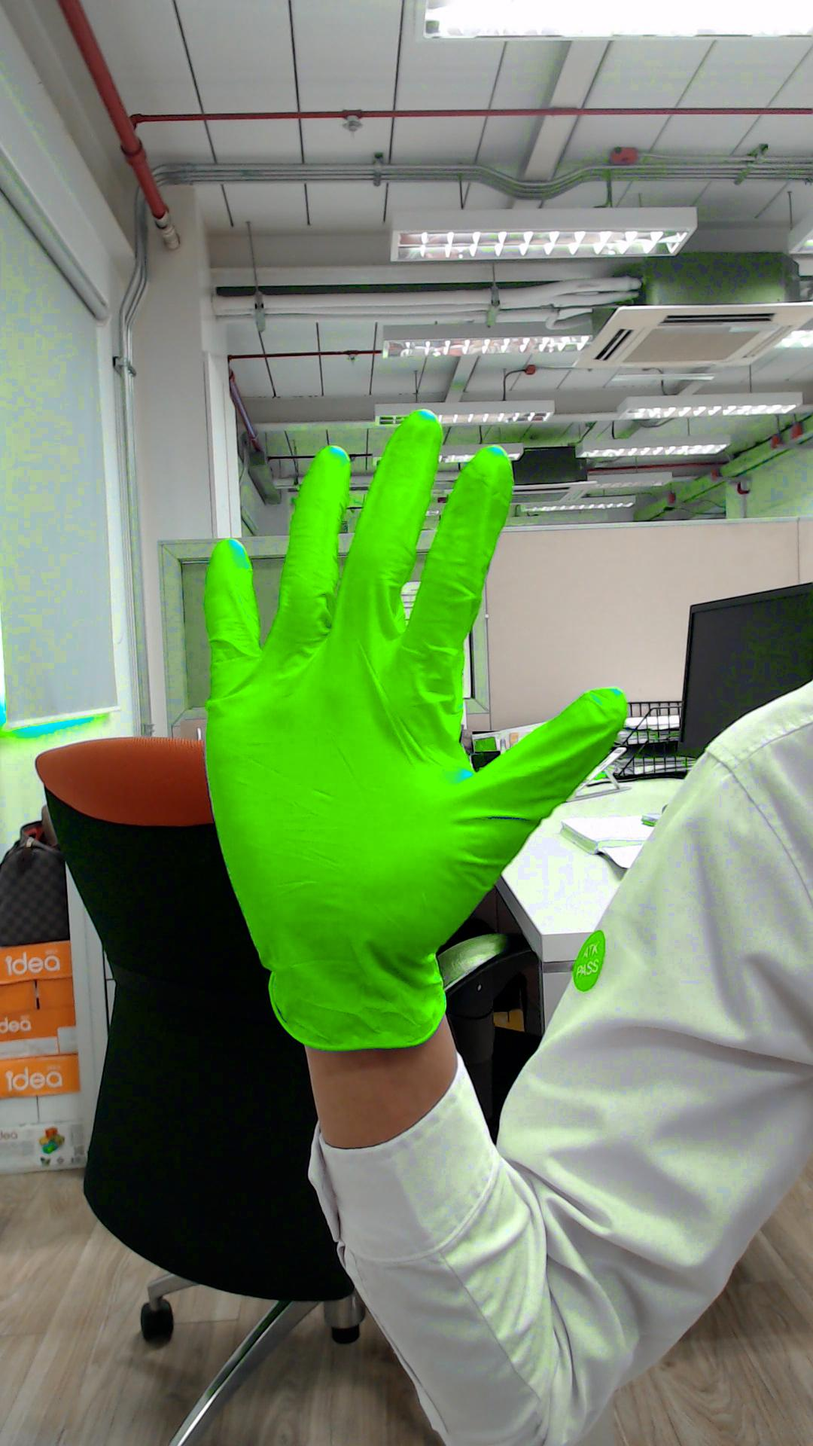gloves: (197, 395, 633, 941)
